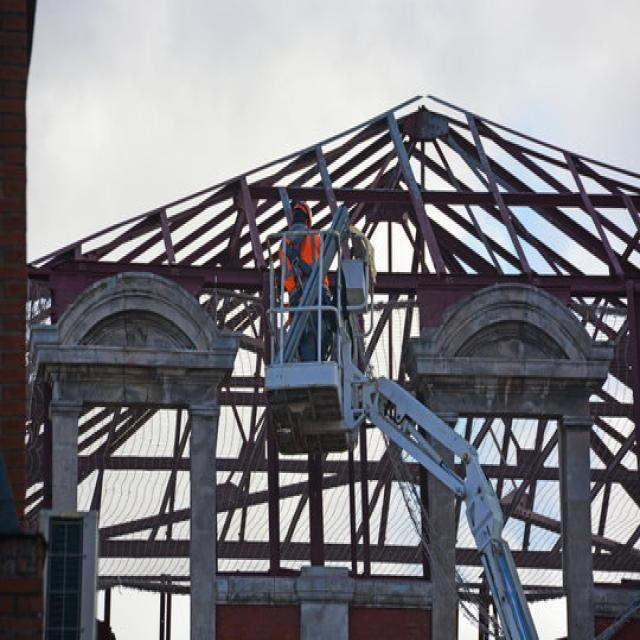Arnes_seguridad: (282, 228, 333, 304)
